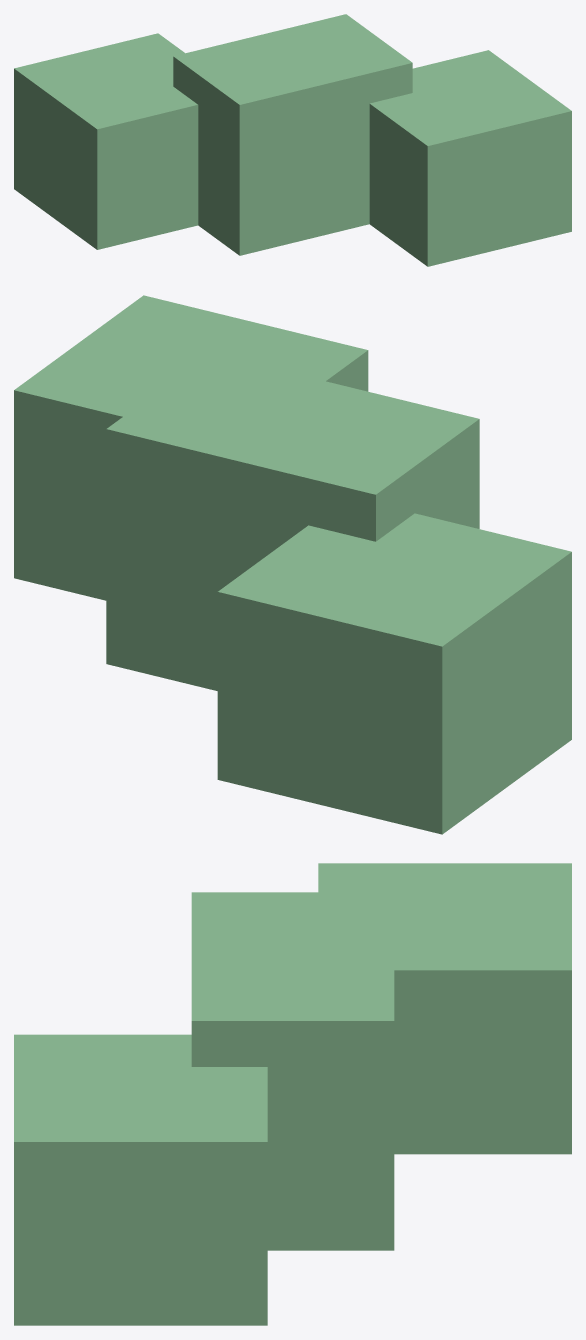
File: personnel.gltf
3 views of the same model, one above another, from view 1: azimuth 30°, elevation 25°; view 2: azimuth 150°, elevation 25°; view 3: azimuth 270°, elevation 25° (orthographic). The views are drawn at different scales.
Bounding box in the file's own units: 13 × 5 × 11.
